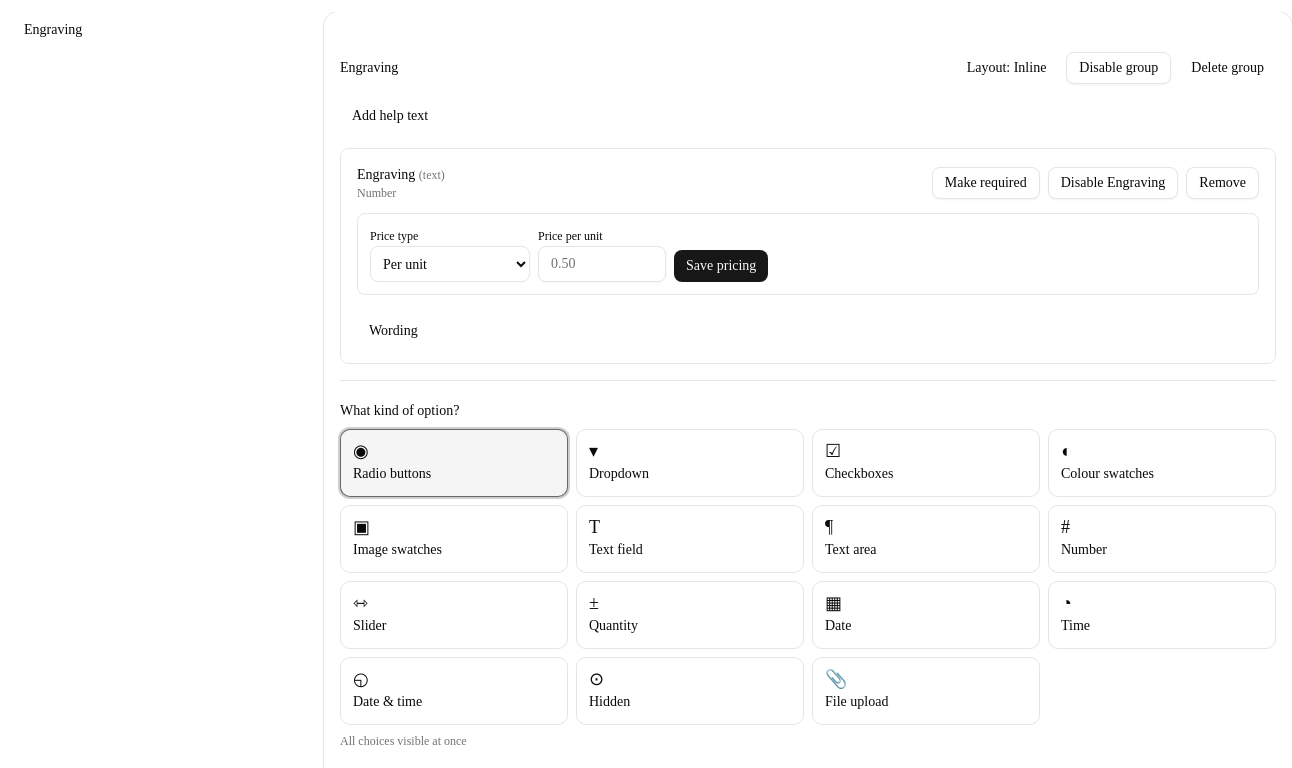
option limits › offers range bounds on a number option
What coordinates should you click on to do the following:
click the button "Wording"
I would click on:
 (393, 331)
Its box is [357,315,430,347].
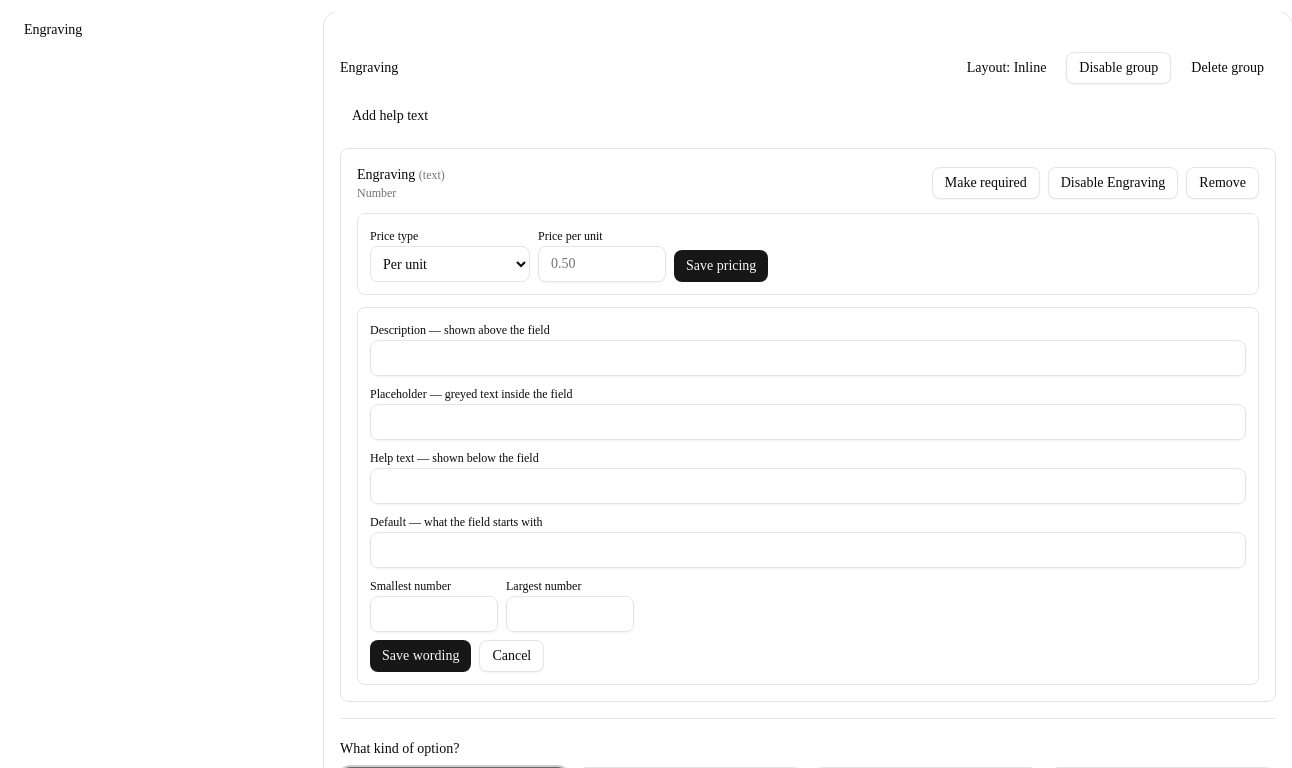
Check: the field labelled "Smallest number" is shown, box [370,596,498,632]
Check: the field labelled "Largest number" is shown, box [506,596,634,632]
